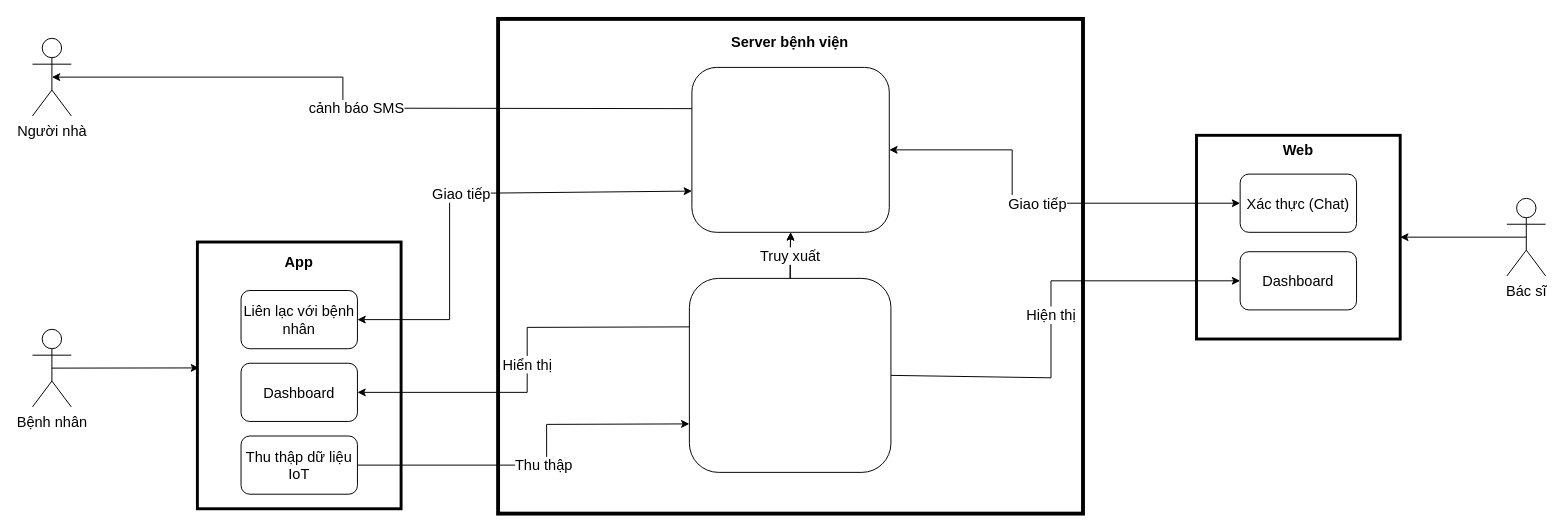
Image size: 1564x532. Some labels were removed from this diagram. The box of each missing label's shape, as (x1, y1, x2, y2) in pixels:
Datalake (Dữ liệu bệnh án, thông tin về thuốc, dữ liệu IoT): (688, 277, 891, 472)
Hệ thống AI (LSTM, DNN, LLM, RAG): (691, 66, 889, 232)
